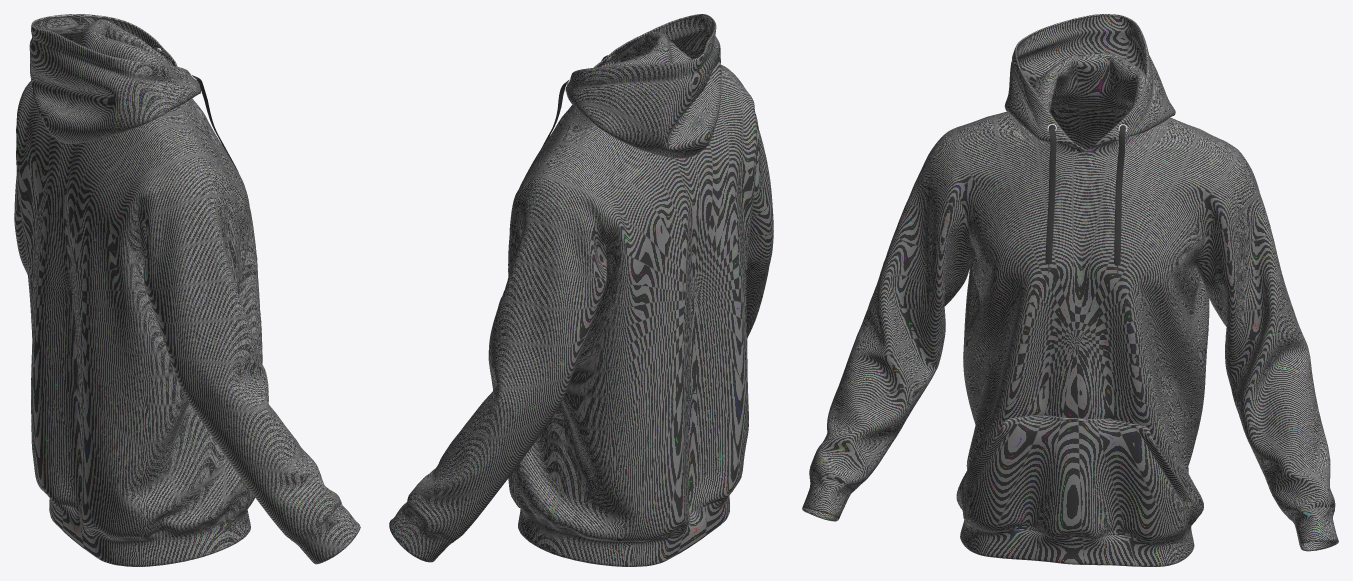
Rendered from PROZ-ESnew.glb.
3 views of the same model, side by side, from view 1: azimuth 30°, elevation 25°; view 2: azimuth 150°, elevation 25°; view 3: azimuth 270°, elevation 25° (orthographic). The views are drawn at different scales.
Parts seen in each view (by area): view 1: 000_Hoodie; view 2: 000_Hoodie; view 3: 000_Hoodie, 001_Twine.
Part boxes in pixels (x1=…): 000_Hoodie: x1=14, y1=14, x2=360, y2=566; 000_Hoodie: x1=389, y1=14, x2=773, y2=566; 000_Hoodie: x1=802, y1=14, x2=1338, y2=566; 001_Twine: x1=1045, y1=125, x2=1125, y2=265.
Size of the model in its own units: 149 by 348 by 342.
4 materials, 1 textured.
